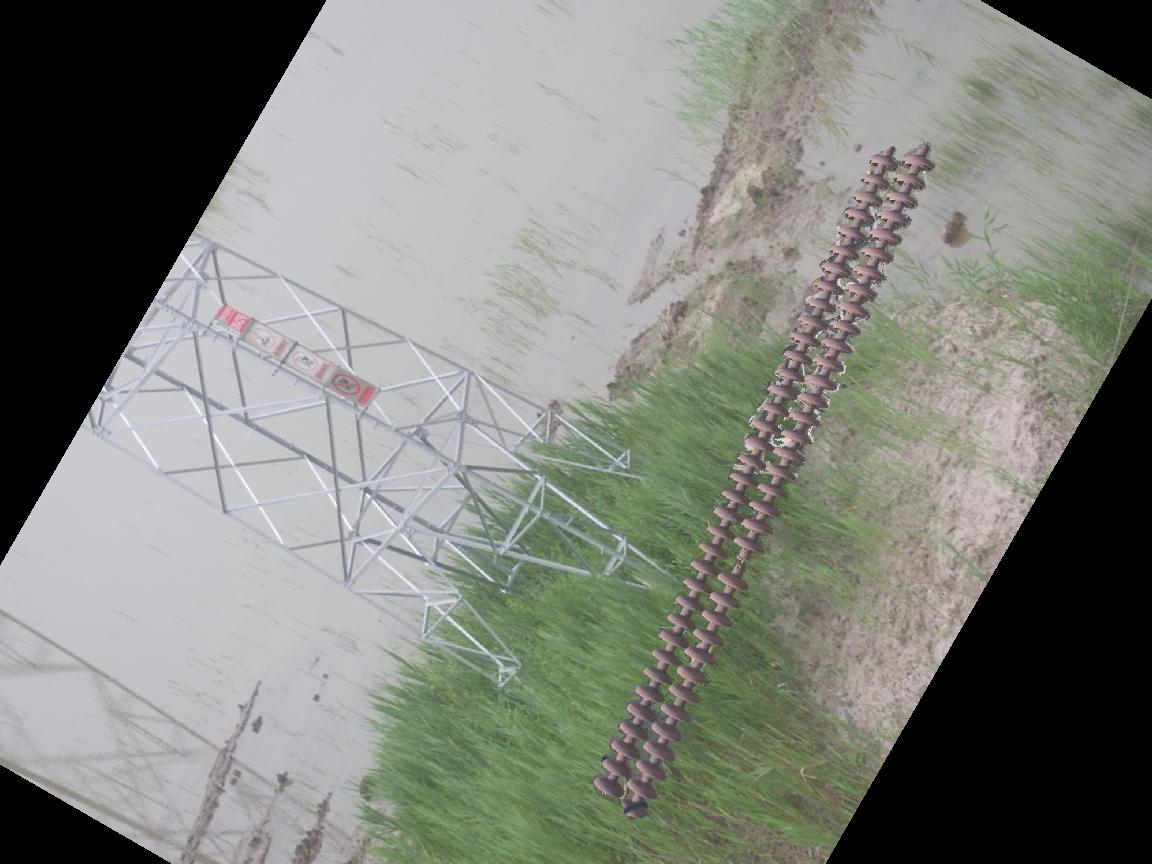insulator: (592, 141, 945, 824)
insulator_stringdrop: (713, 533, 765, 595)
